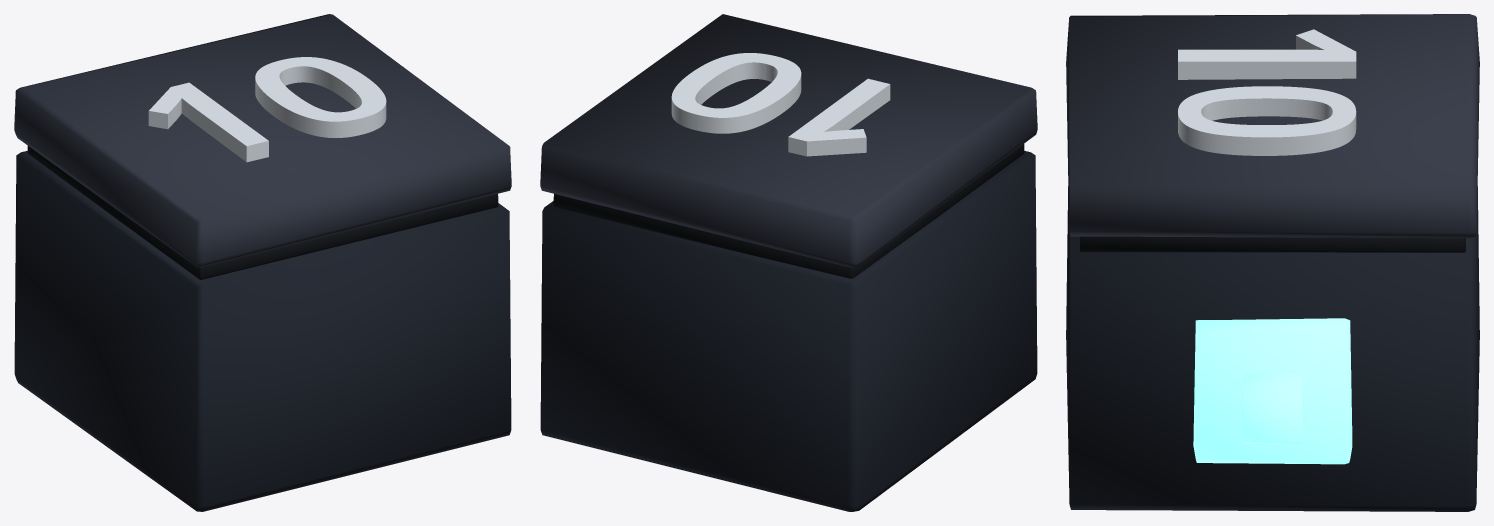
Rendered from 37_list_node_10.glb.
3 views of the same model, side by side, from view 1: azimuth 30°, elevation 25°; view 2: azimuth 150°, elevation 25°; view 3: azimuth 270°, elevation 25° (orthographic). The views are drawn at different scales.
Visible parts, largest first — view 1: CubeLower, TopLid, TopDigits, SeamGroove; view 2: CubeLower, TopLid, TopDigits, SeamGroove; view 3: CubeLower, TopLid, PortOutHousing, TopDigits, SeamGroove, PortOutStub.
Boxes of the visible parts, <box> form: CubeLower: <box>14,151,511,511</box>; TopLid: <box>14,14,511,267</box>; TopDigits: <box>148,57,386,162</box>; SeamGroove: <box>27,146,498,279</box>; CubeLower: <box>540,151,1037,511</box>; TopLid: <box>540,14,1037,267</box>; TopDigits: <box>671,53,890,156</box>; SeamGroove: <box>553,144,1024,278</box>; CubeLower: <box>1066,186,1479,511</box>; TopLid: <box>1066,14,1479,238</box>; PortOutHousing: <box>1193,318,1352,464</box>; TopDigits: <box>1178,29,1356,155</box>; SeamGroove: <box>1080,236,1465,252</box>; PortOutStub: <box>1241,373,1304,444</box>.
Bounding box in the file's own units: 0.93 × 0.7225 × 0.78.
